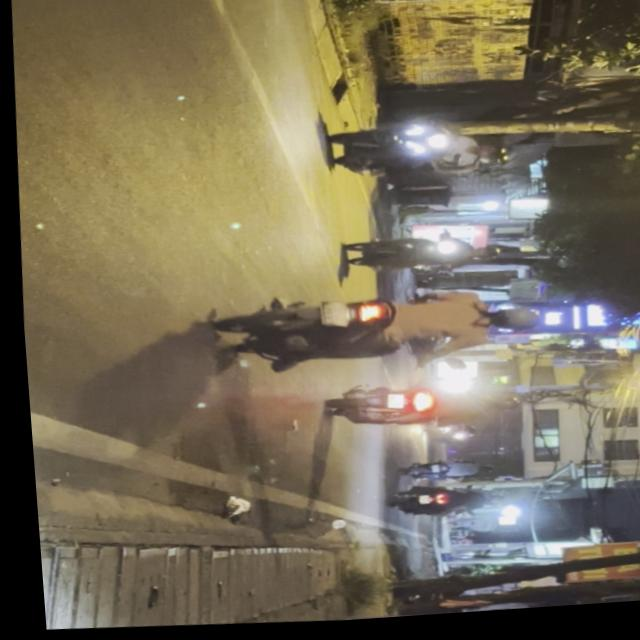helmet: (481, 307, 539, 339), (475, 147, 513, 167)
licenseplate: (207, 279, 544, 385), (319, 114, 516, 189)
nohelmet: (315, 303, 345, 331)
